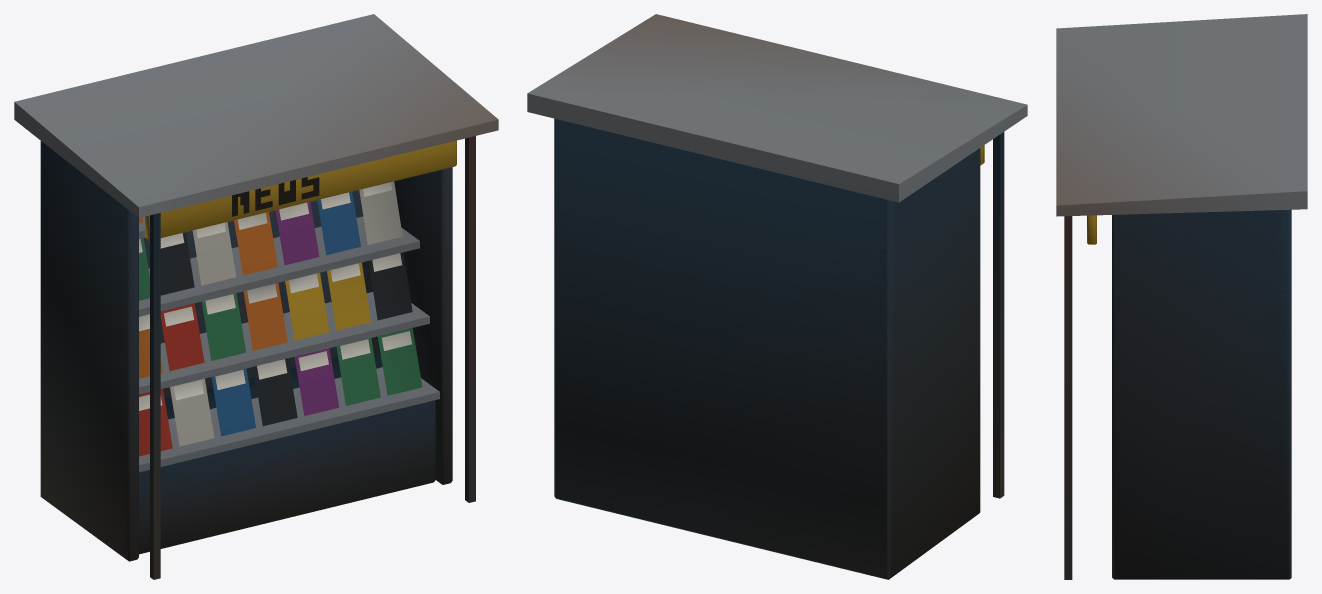
File: newsstand.glb
3 views of the same model, side by side, from view 1: azimuth 30°, elevation 25°; view 2: azimuth 150°, elevation 25°; view 3: azimuth 270°, elevation 25° (orthographic). The views are drawn at different scales.
Visible parts, largest first — view 1: Newsstand; view 2: Newsstand; view 3: Newsstand.
Part boxes in pixels (x1,y1,x2,y2): Newsstand: [14, 14, 498, 579]; Newsstand: [527, 14, 1027, 579]; Newsstand: [1056, 14, 1307, 579].
Bounding box in the file's own units: 2.1 × 2.2 × 1.26.
